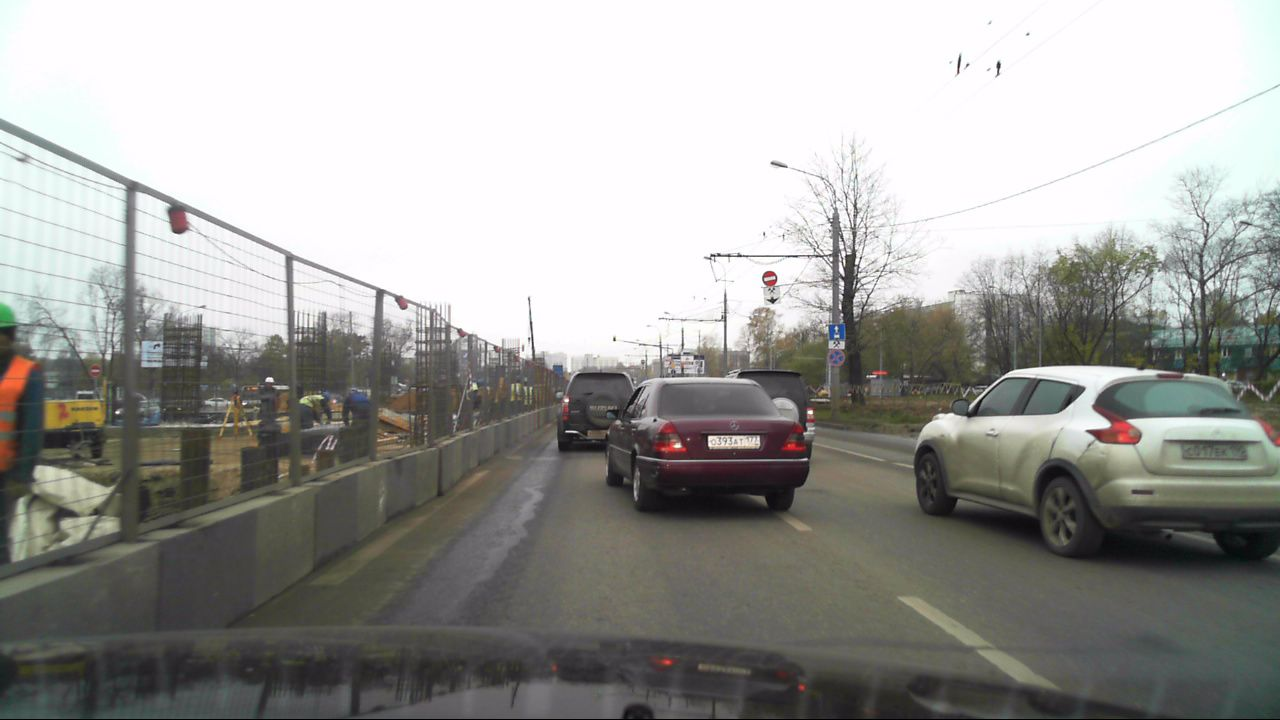No Parking: (827, 350, 845, 366)
